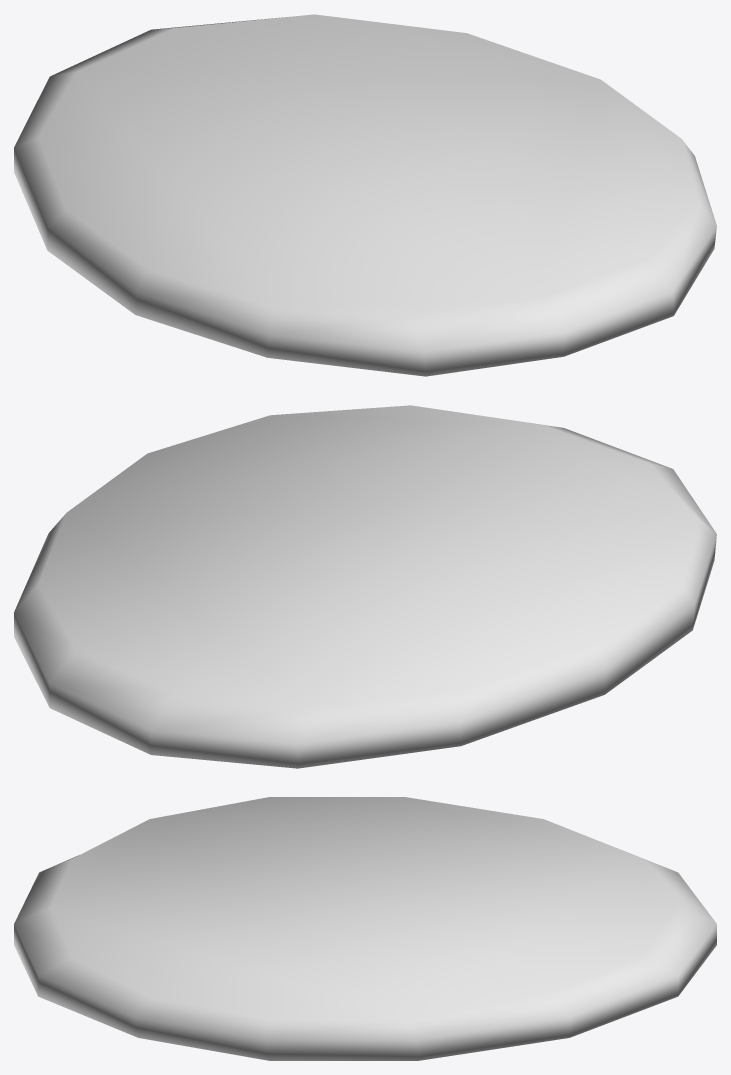
The model's file is toilet_lid.gltf.
The picture shows the model from 3 angles, top to bottom: view 1: azimuth 30°, elevation 25°; view 2: azimuth 150°, elevation 25°; view 3: azimuth 270°, elevation 25°; orthographic projection. The views are drawn at different scales.
Visible parts, largest first — view 1: Toilet Ac2.001; view 2: Toilet Ac2.001; view 3: Toilet Ac2.001.
Part boxes in pixels (<box>): Toilet Ac2.001: <box>14,14,716,376</box>; Toilet Ac2.001: <box>14,405,716,768</box>; Toilet Ac2.001: <box>14,797,716,1060</box>.
Size of the model in its own units: 0.3793 by 0.0283 by 0.4868.
1 material, 1 textured.
